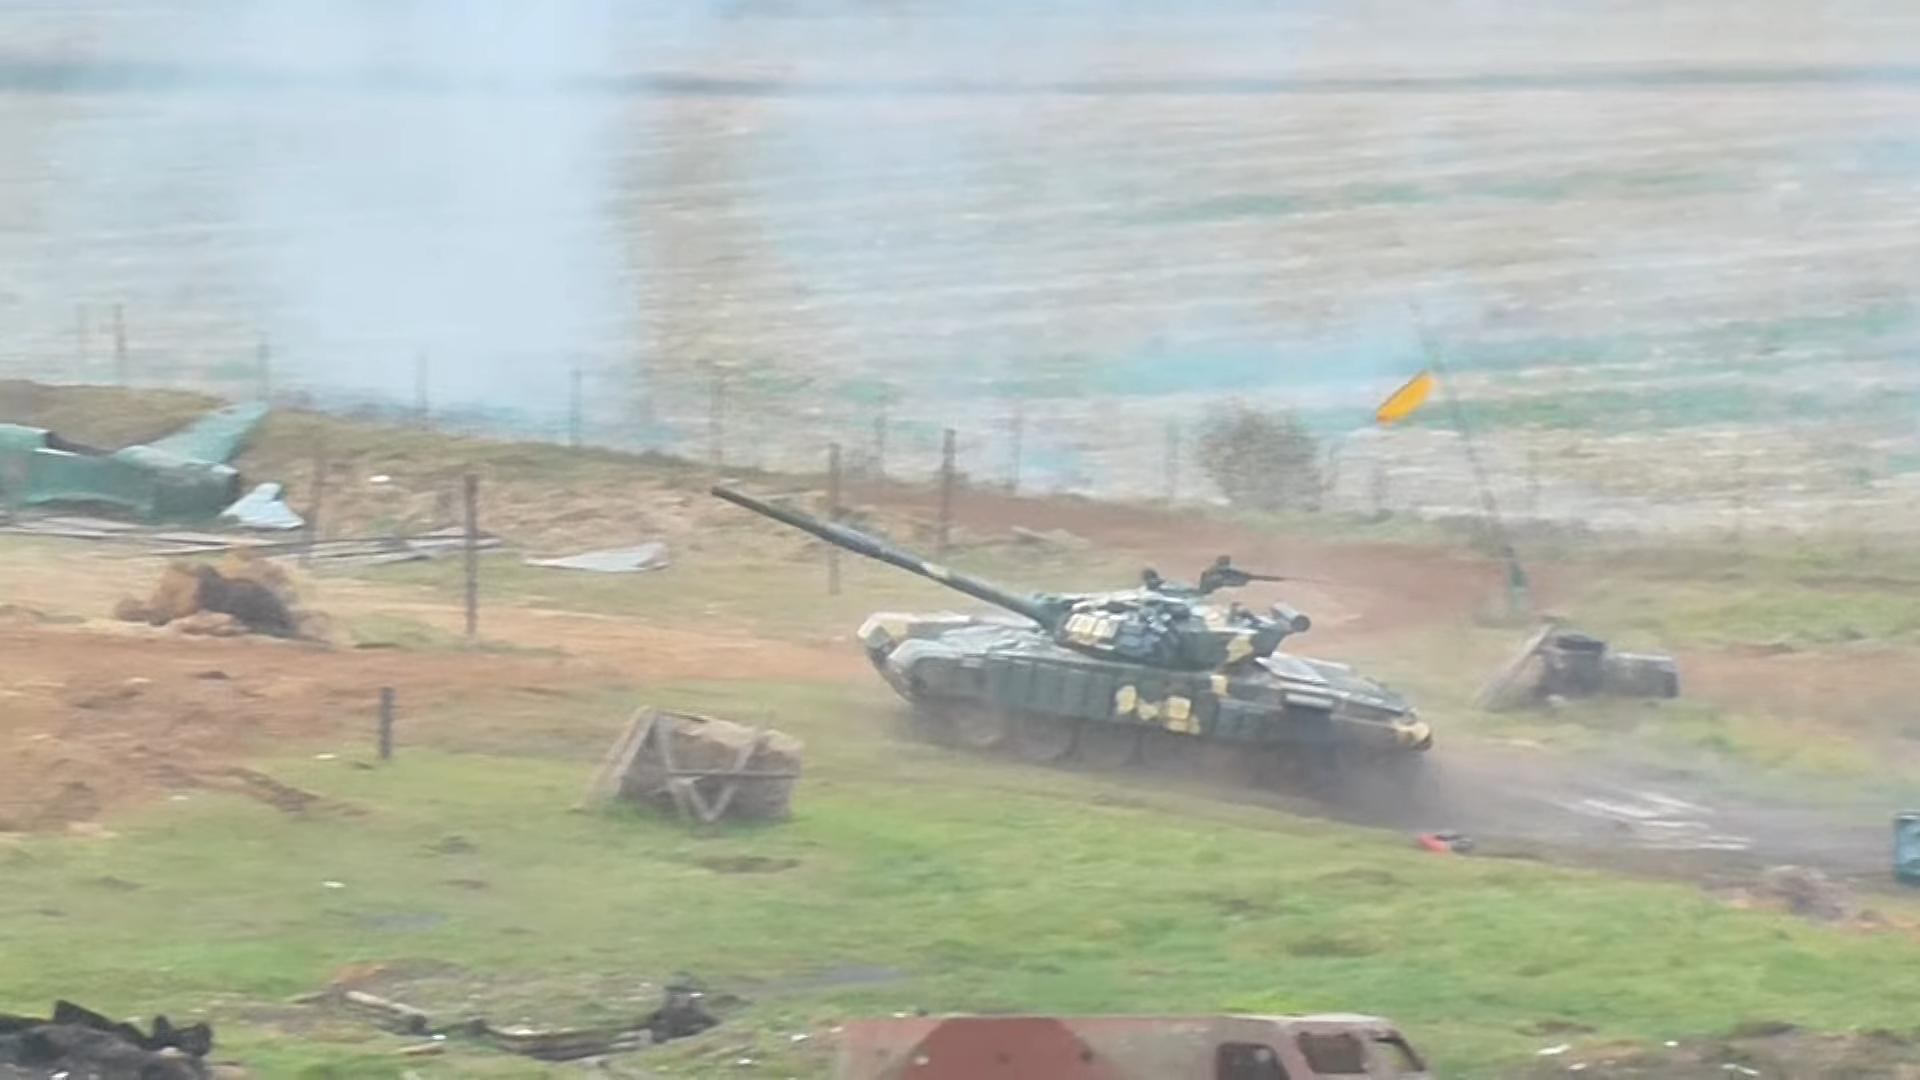tank: (711, 484, 1432, 804)
